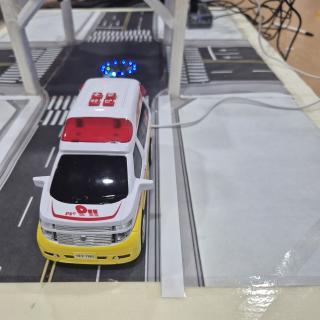Ambulance: (33, 78, 153, 264)
